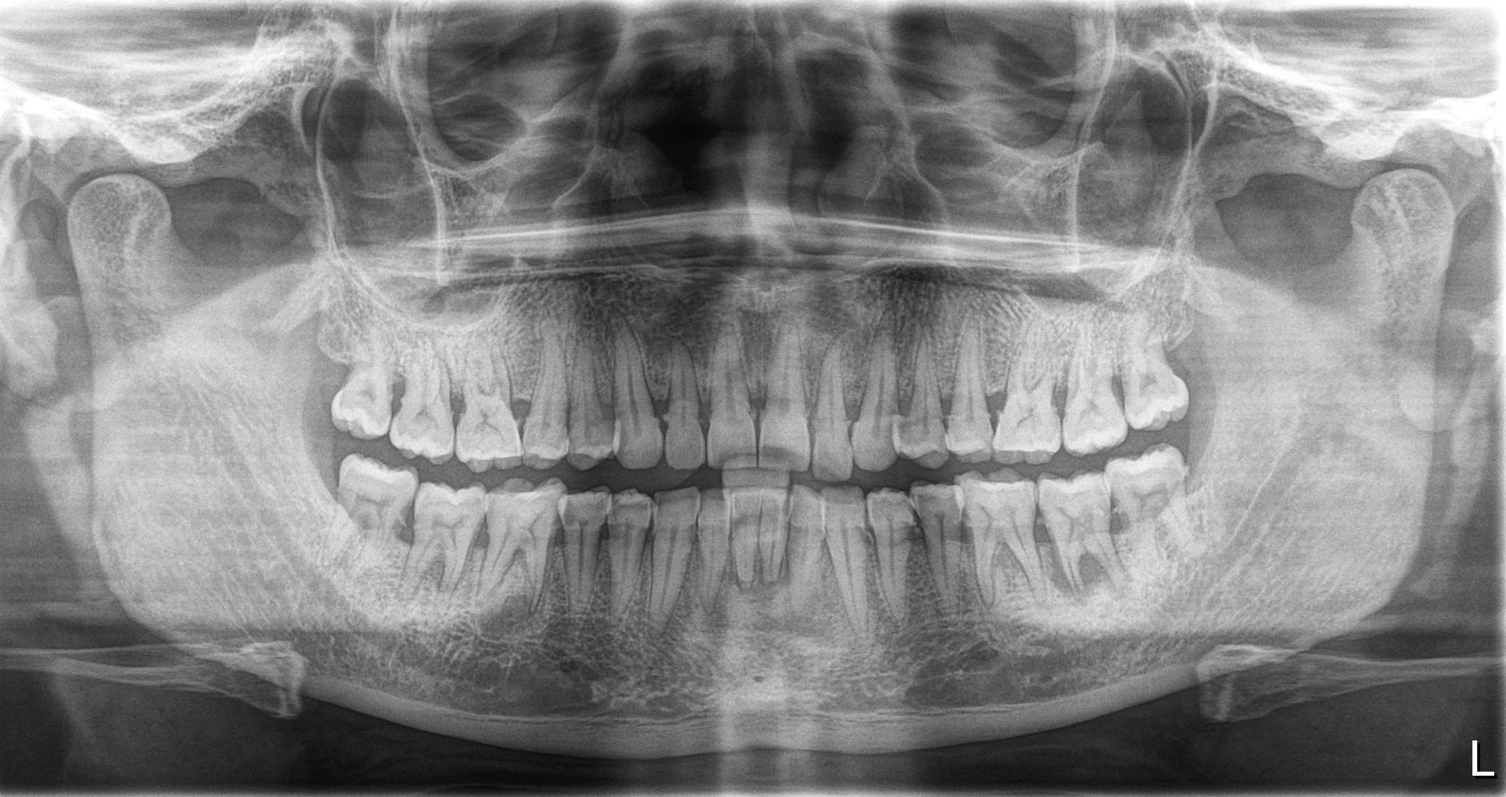Dental Caries: (1070, 553, 1116, 598)
Impacted Third Molar: (338, 446, 411, 557), (1110, 466, 1191, 562)
